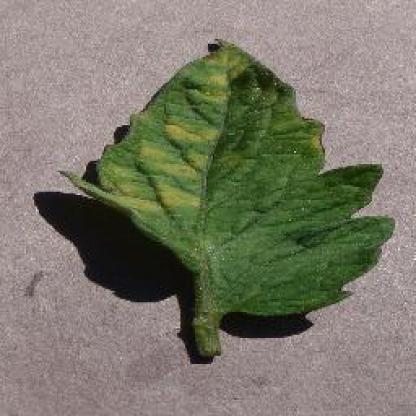bad leaf: (65, 23, 377, 346)
